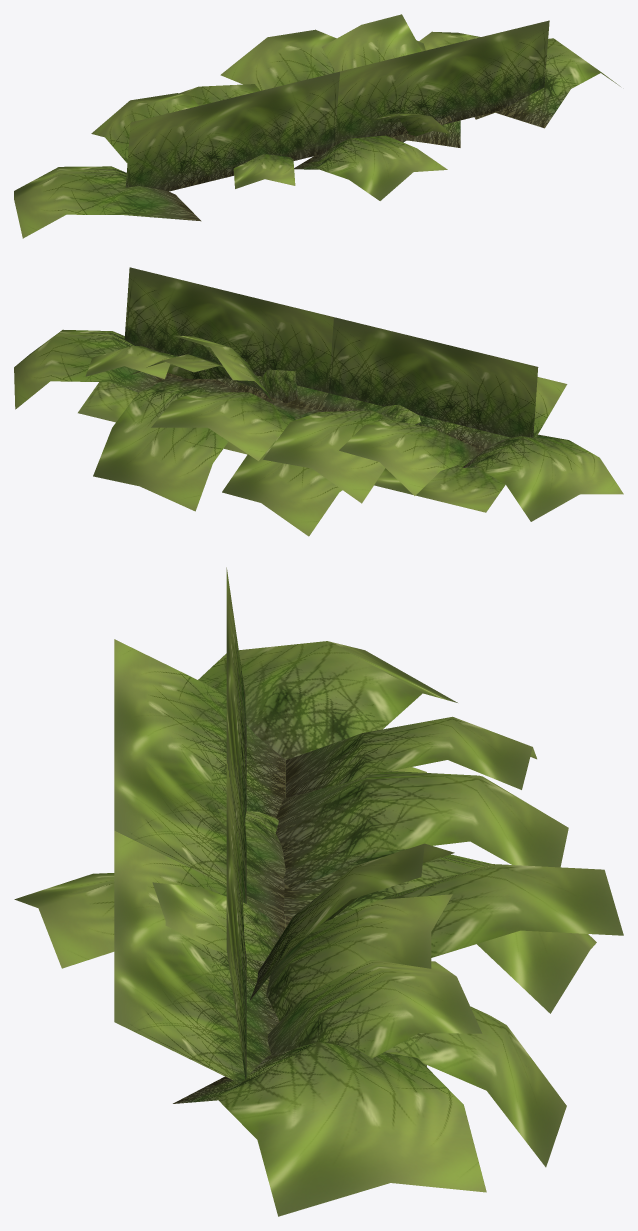
File: Model_Grass_01.fbx
3 views of the same model, one above another, from view 1: azimuth 30°, elevation 25°; view 2: azimuth 150°, elevation 25°; view 3: azimuth 270°, elevation 25° (orthographic). The views are drawn at different scales.
Visible parts, largest first — view 1: Grass_Edge; view 2: Grass_Edge; view 3: Grass_Edge.
Boxes of the visible parts, x1=… form: Grass_Edge: x1=14, y1=14, x2=620, y2=238; Grass_Edge: x1=14, y1=267, x2=623, y2=536; Grass_Edge: x1=14, y1=567, x2=623, y2=1216.
Size of the model in its own units: 289 by 69.3 by 135.
